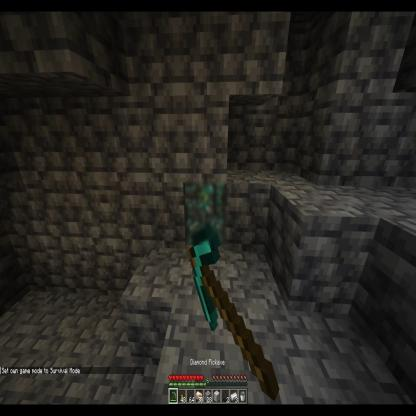diamond ore: (185, 181, 227, 245)
